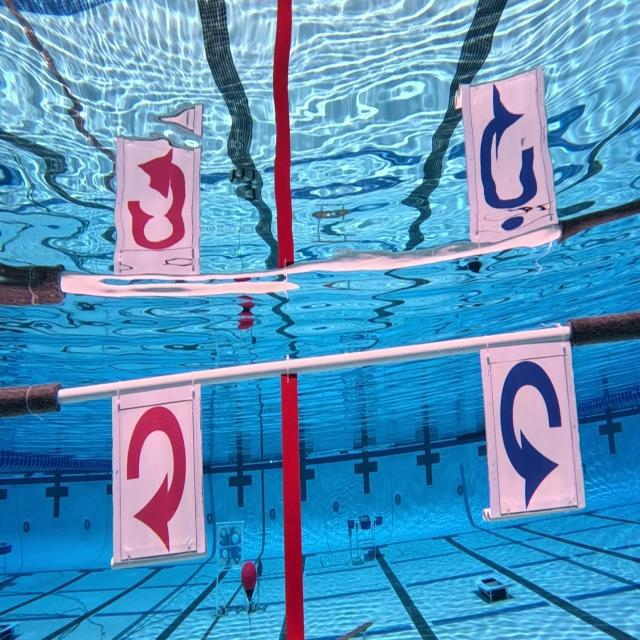blue_side: (481, 348, 572, 508)
red_side: (107, 386, 197, 555)
